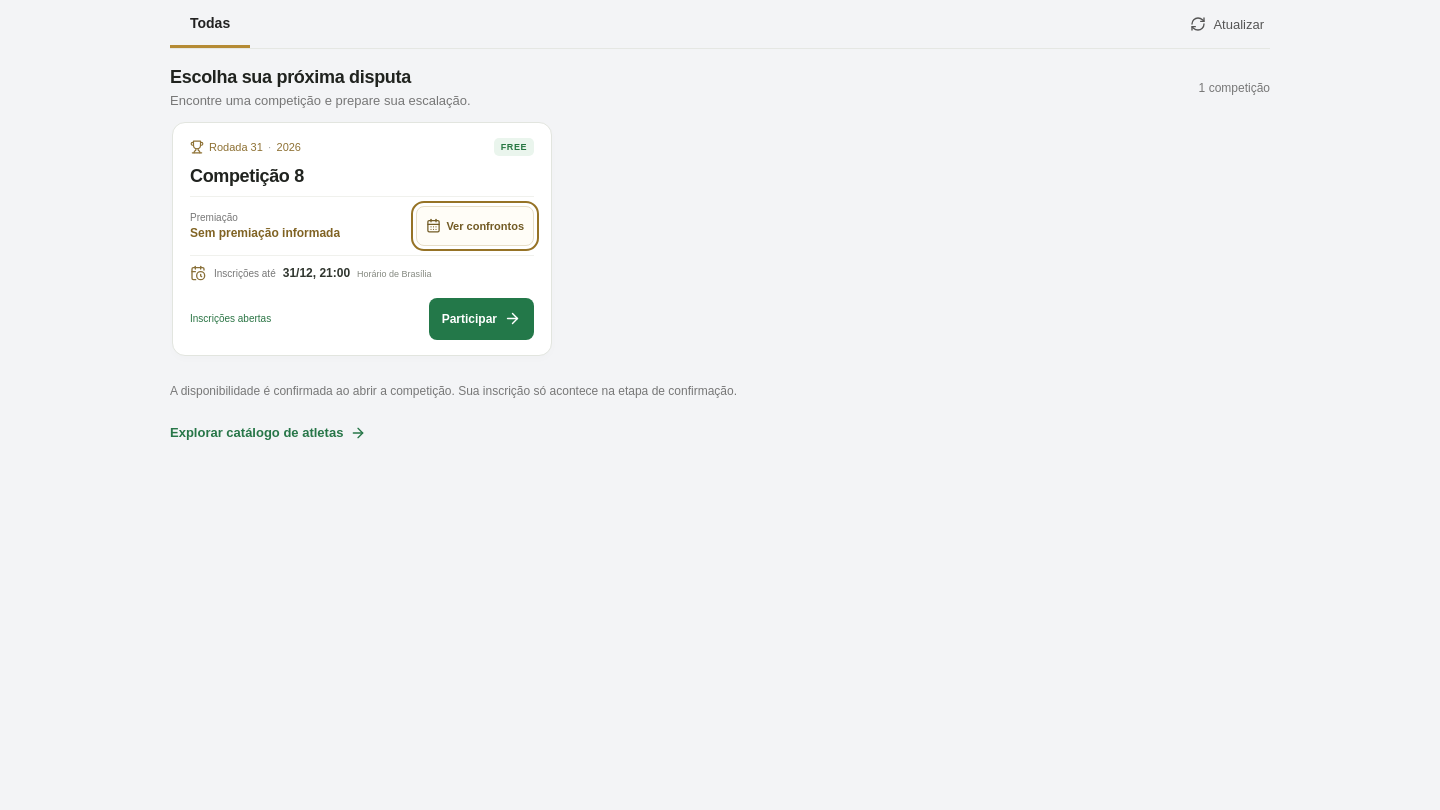
Test: abre uma modal informativa, fecha por Escape e restaura o foco sem iniciar inscrição
Click the button "Ver confrontos": (475, 226) [416,206,534,246]
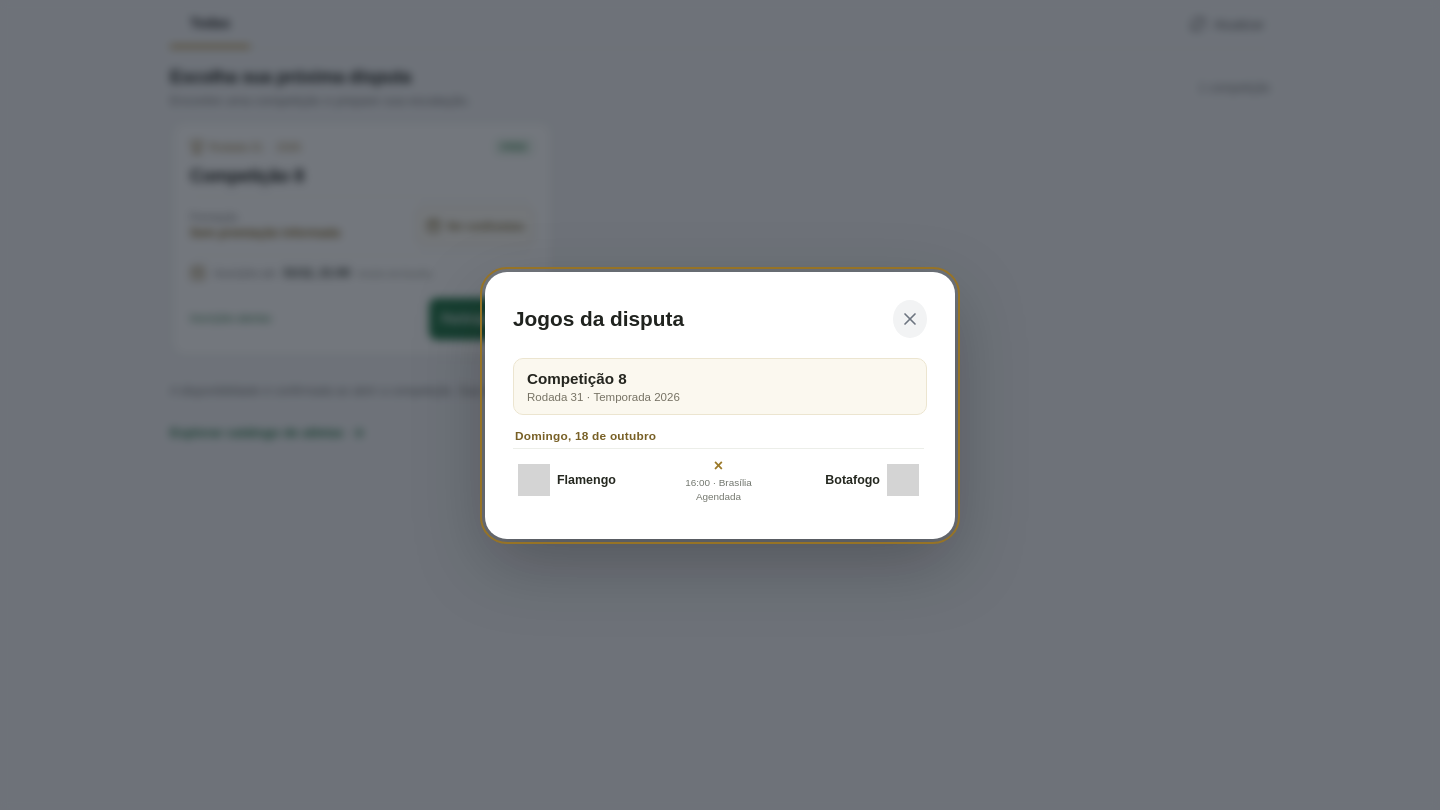
Expected: the text "Competição 8" is shown, [527,370,627,386]
Expected: the text "Flamengo" is shown, [557,472,616,486]
Expected: the text "Botafogo" is shown, [825,472,880,486]
Press Tab in the dialog "Jogos da disputa", box [485,272,955,538]
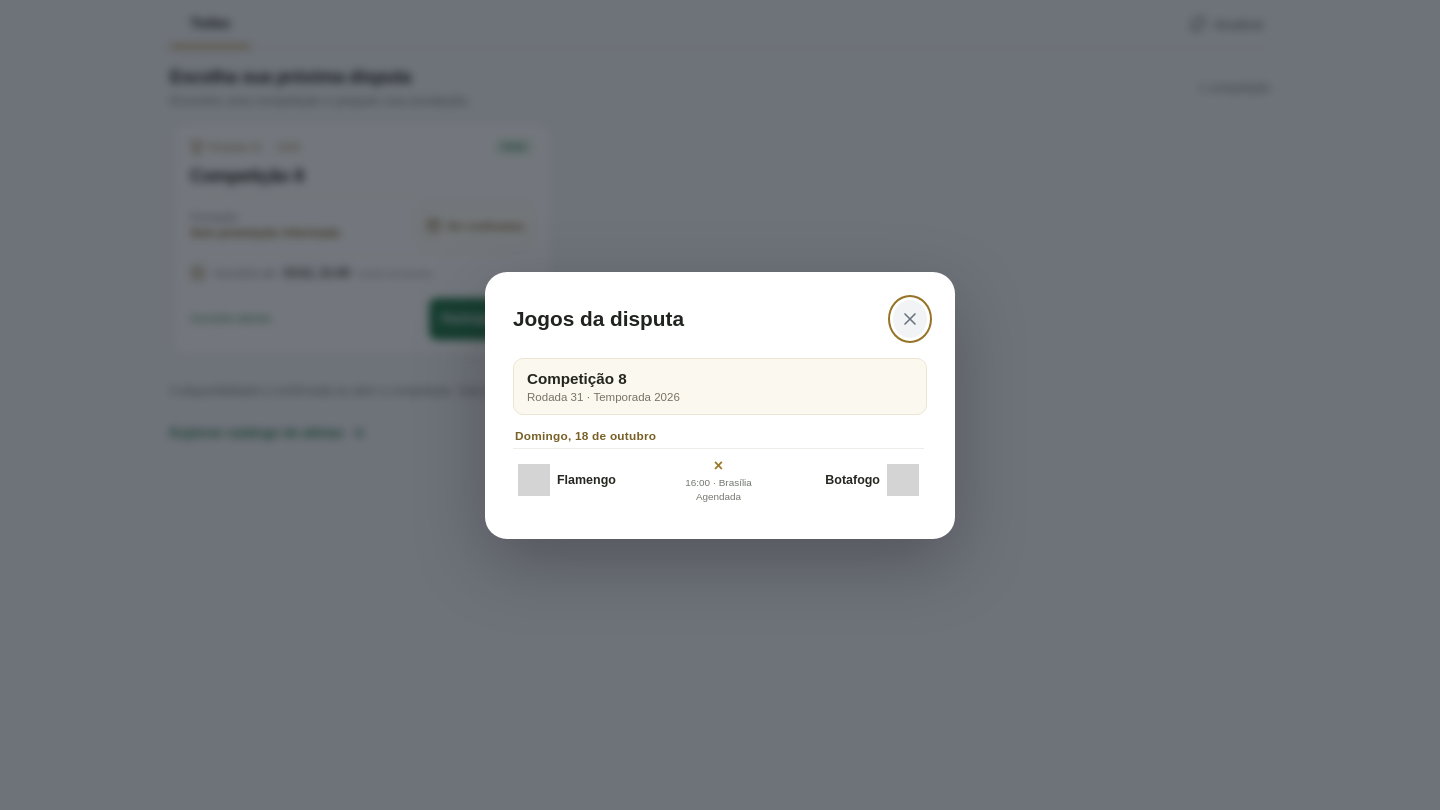
Press Escape
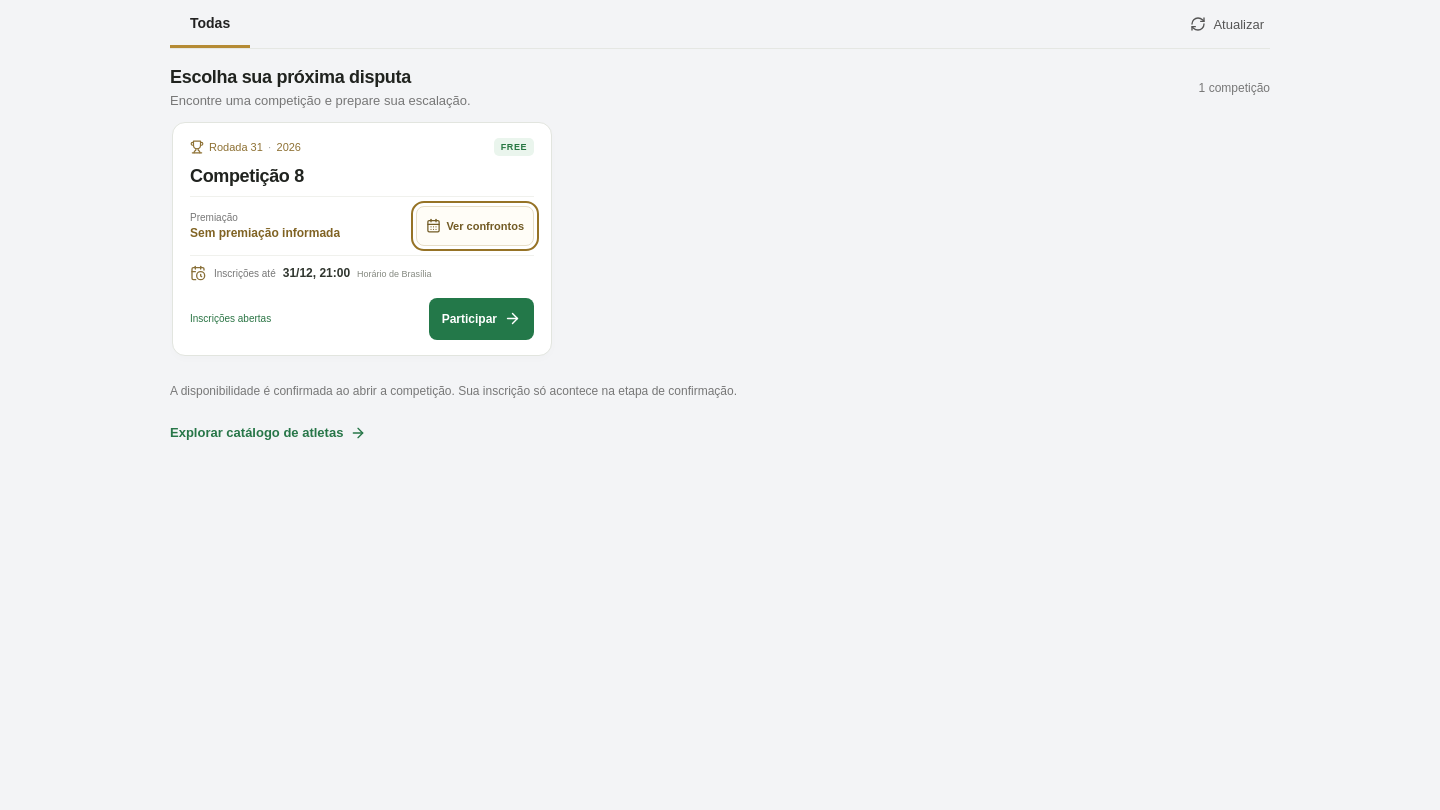
Expected: the dialog is gone
Click the button "Ver confrontos": (475, 226) [416,206,534,246]
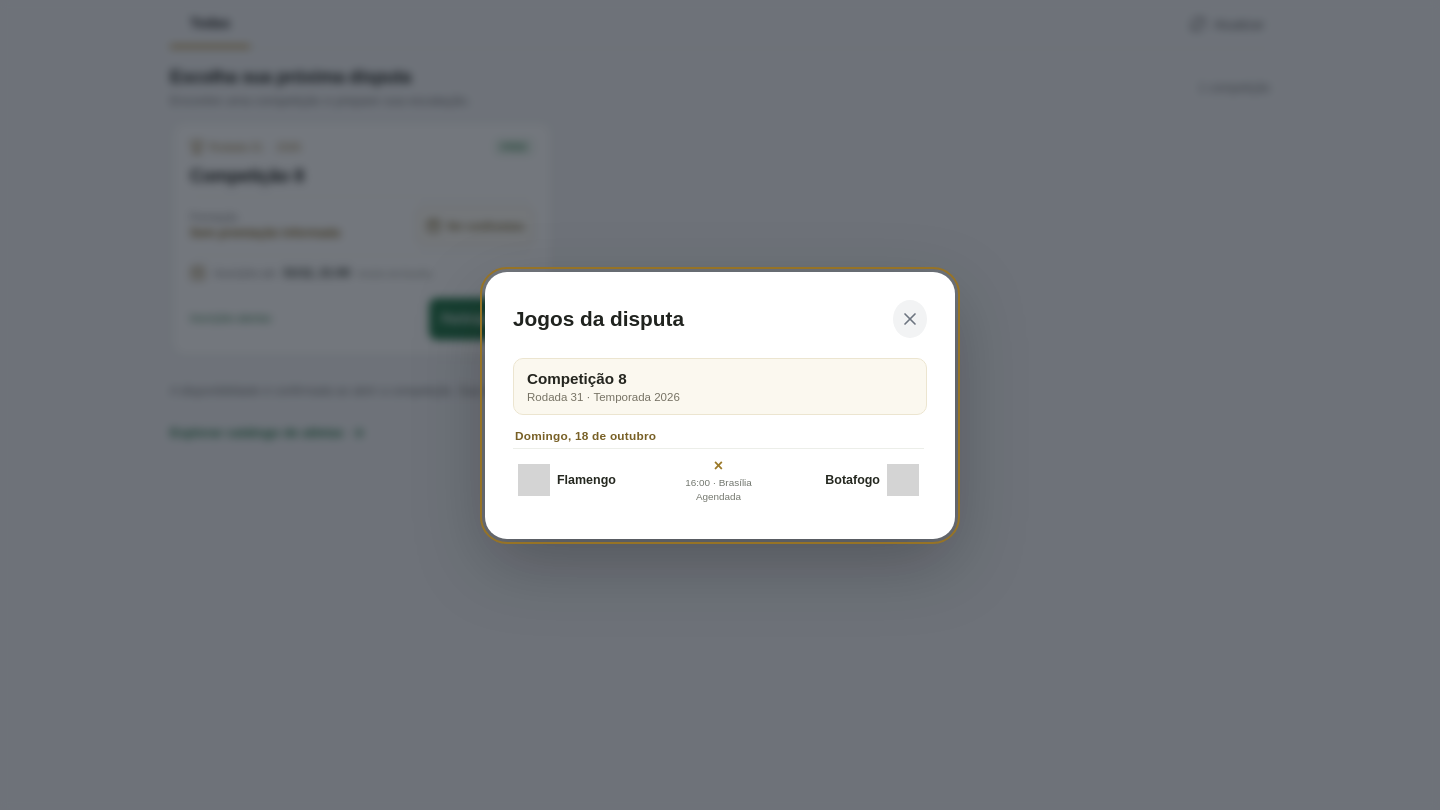
Expected: the dialog "Jogos da disputa" is shown, [485,272,955,538]
